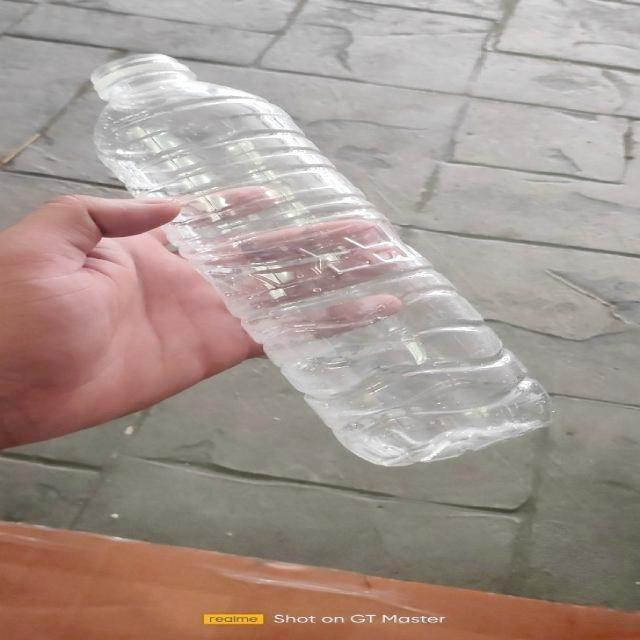bottle: (94, 54, 555, 466)
